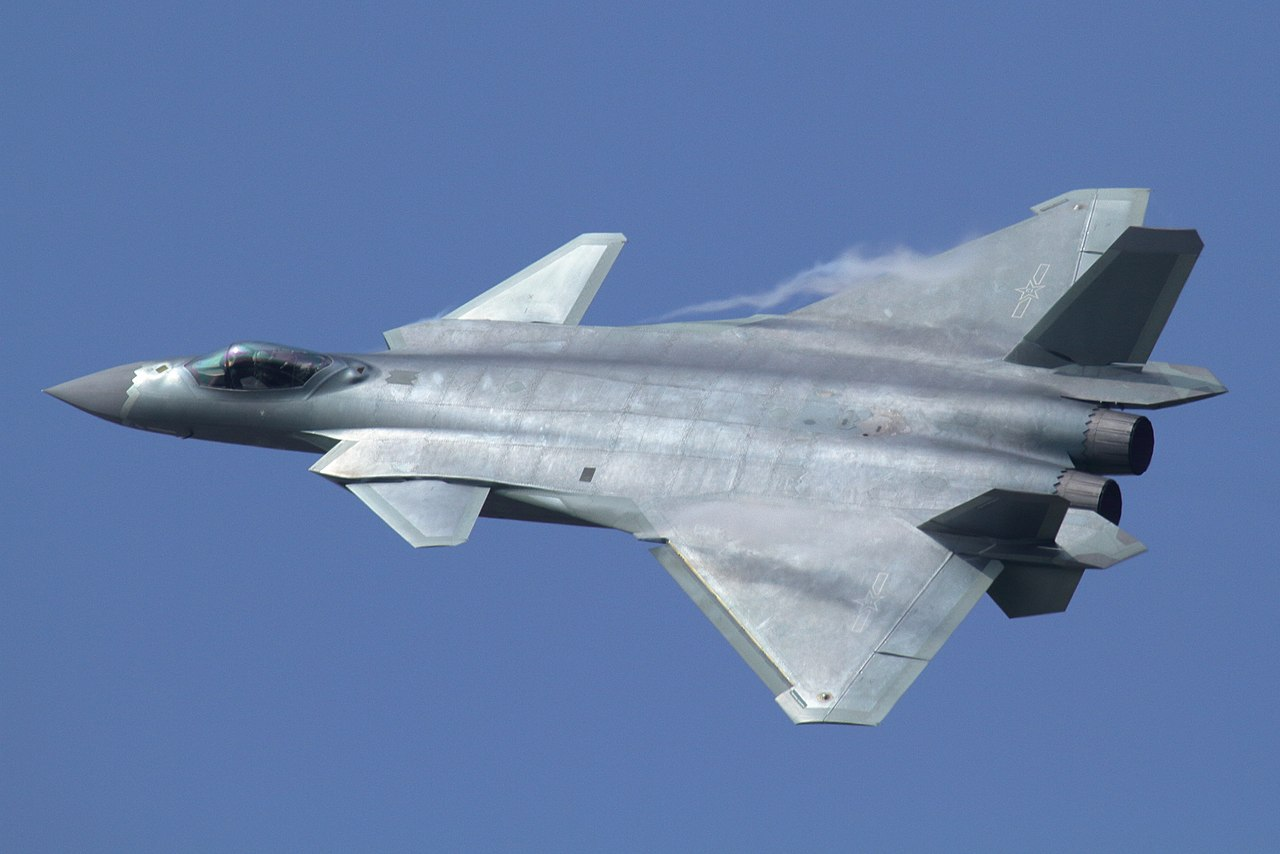J20: (37, 186, 1229, 726)
